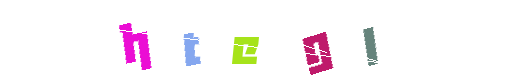1: (278, 0, 358, 80)
E: (218, 0, 298, 80)
G: (240, 0, 320, 80)
H: (96, 0, 176, 80)
T: (204, 0, 284, 80)
